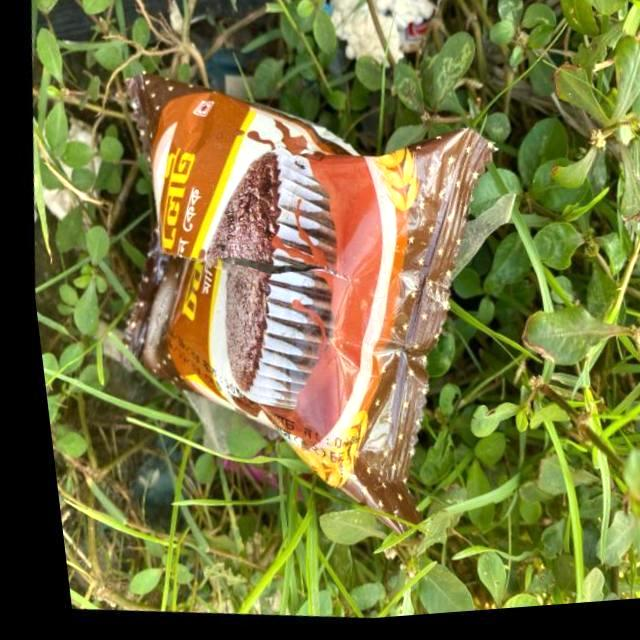packet: (83, 72, 509, 529)
